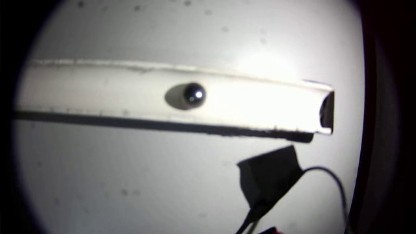gangzhu: (180, 81, 205, 106)
